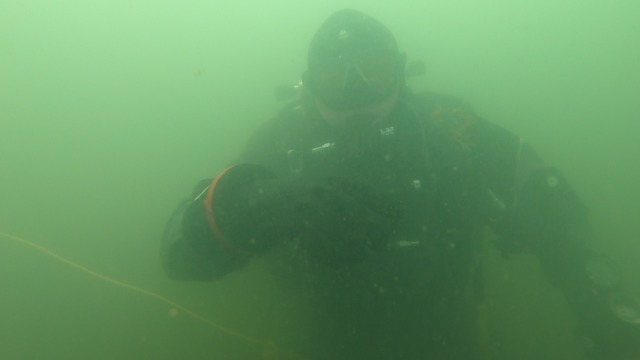Diver: (151, 6, 636, 354)
Hand: (202, 152, 404, 277)
Head: (290, 12, 427, 160)
